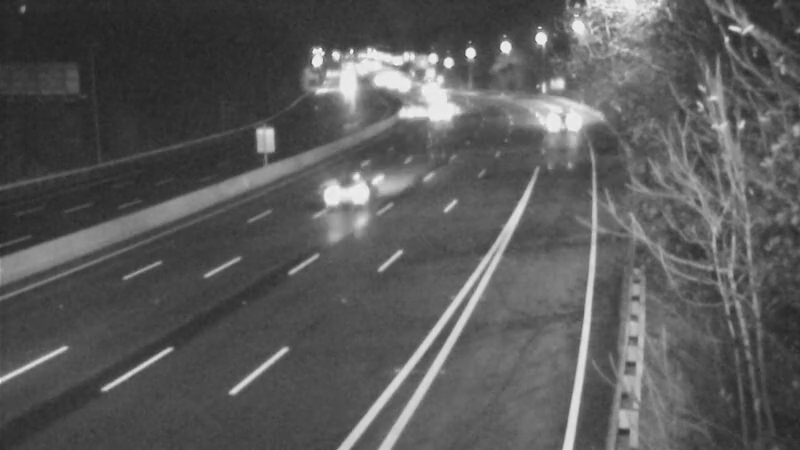vehicle: (294, 158, 374, 238), (414, 71, 464, 121), (414, 88, 464, 138), (533, 95, 583, 145), (388, 88, 438, 138)
